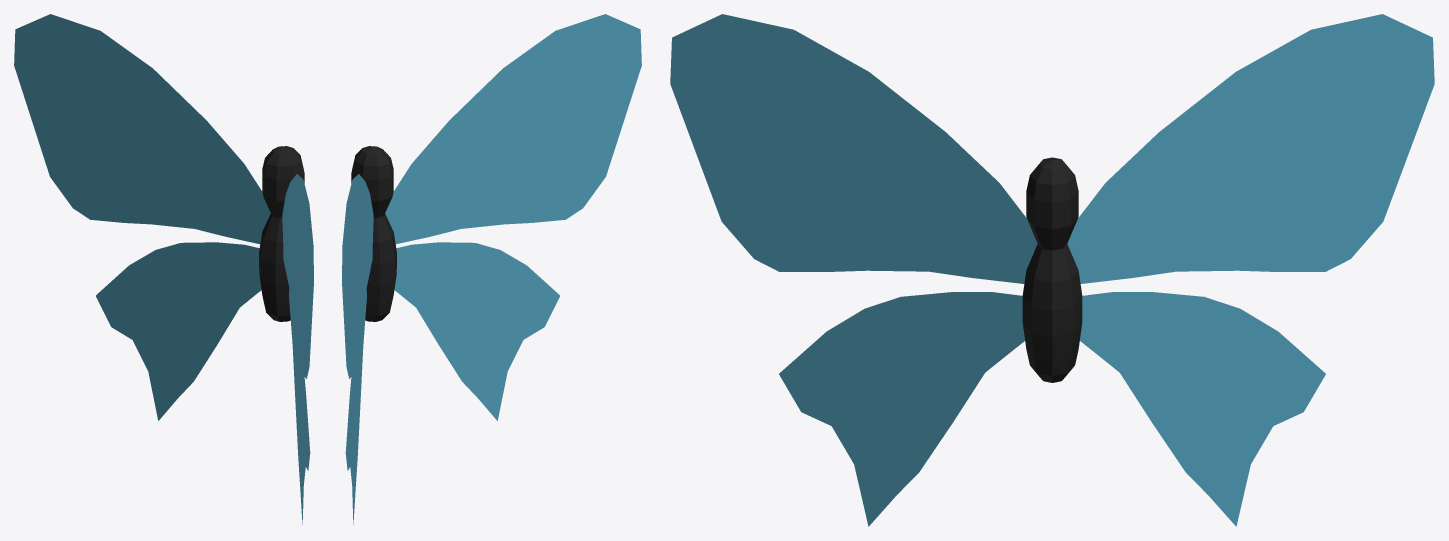
The model's file is butterfly_textured.glb.
3 views of the same model, side by side, from view 1: azimuth 30°, elevation 25°; view 2: azimuth 150°, elevation 25°; view 3: azimuth 270°, elevation 25° (orthographic). The views are drawn at different scales.
Visible parts, largest first — view 1: RightWing, LeftWing, Body; view 2: LeftWing, RightWing, Body; view 3: LeftWing, RightWing, Body.
Boxes of the visible parts, x1,y1,x2,y2 form: RightWing: (14,14,270,420); LeftWing: (282,174,313,524); Body: (259,146,304,321); LeftWing: (385,14,641,420); RightWing: (342,174,373,524); Body: (351,146,396,321); LeftWing: (670,14,1037,526); RightWing: (1067,14,1434,526); Body: (1022,157,1082,382).
Size of the model in its own units: 1.82 by 4.63 by 6.66.
Materials: 2 (1 with a texture image).
